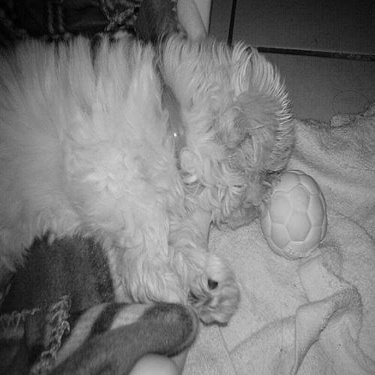dog: (1, 28, 299, 335)
